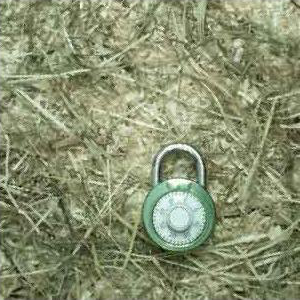lock: (141, 142, 217, 253)
